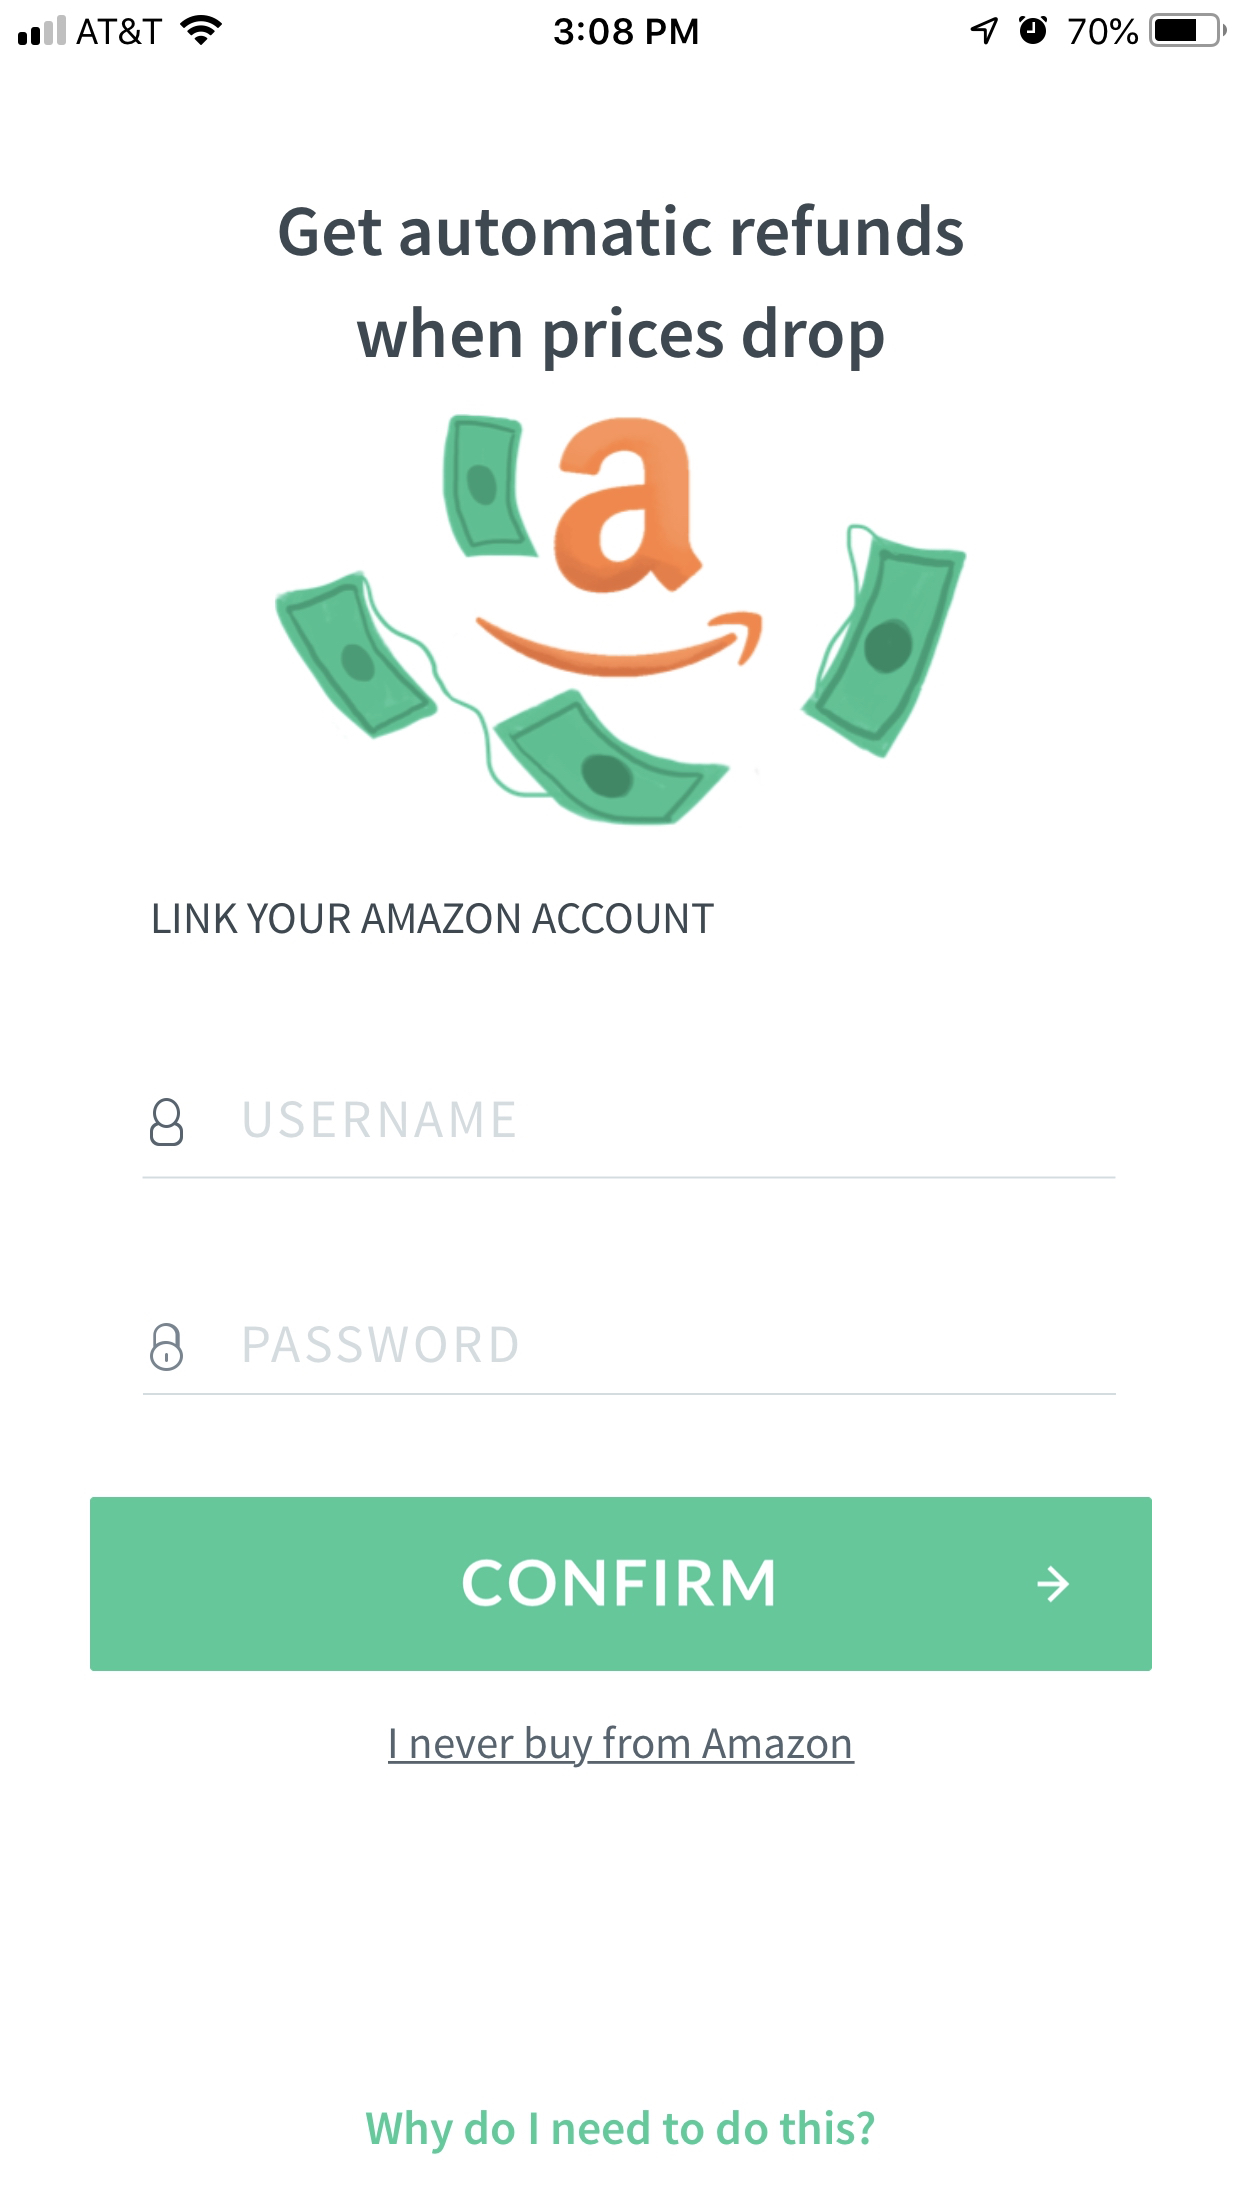EditText: (143, 1096, 1118, 1181), (143, 1322, 1118, 1397)
Icon: (150, 1322, 185, 1372), (150, 1096, 185, 1146), (1037, 1565, 1071, 1604)
Image: (273, 412, 969, 828)
Text: (278, 203, 964, 373), (365, 2109, 877, 2155), (388, 1724, 855, 1768), (155, 902, 714, 936), (246, 1325, 519, 1363), (244, 1101, 516, 1139)
TextButton: (89, 1497, 1153, 1673)
UpperTaskBar: (2, 2, 1242, 49)
